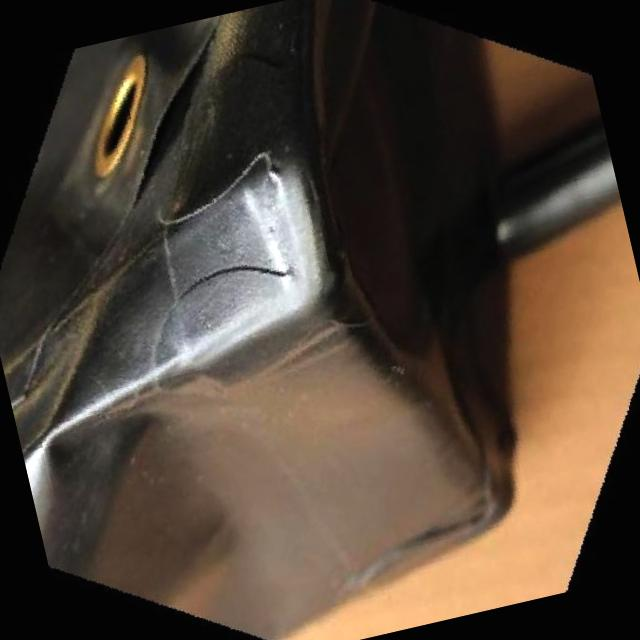crack: (134, 10, 246, 208), (136, 240, 306, 324)
dent: (26, 314, 472, 640), (6, 270, 158, 459)
